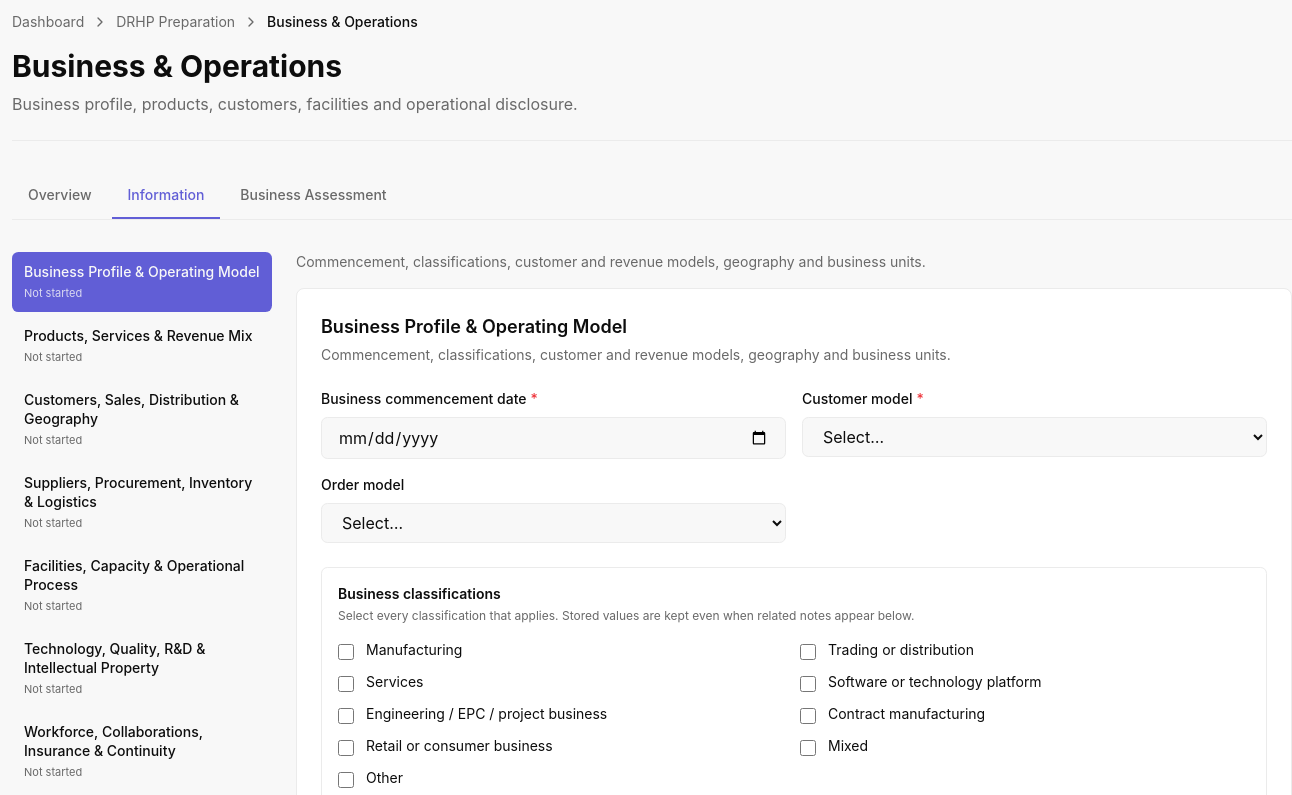
Test: Business & Operations workstream UI (B2 persistence) › loads workspace and renders three tabs and eight information sections
expect the tab "Information" is shown: met, box [112,173,220,219]
expect the tab "Business Assessment" is shown: met, box [224,173,403,219]
Click the tab "Overview".
click(60, 196)  # box [12,173,108,219]
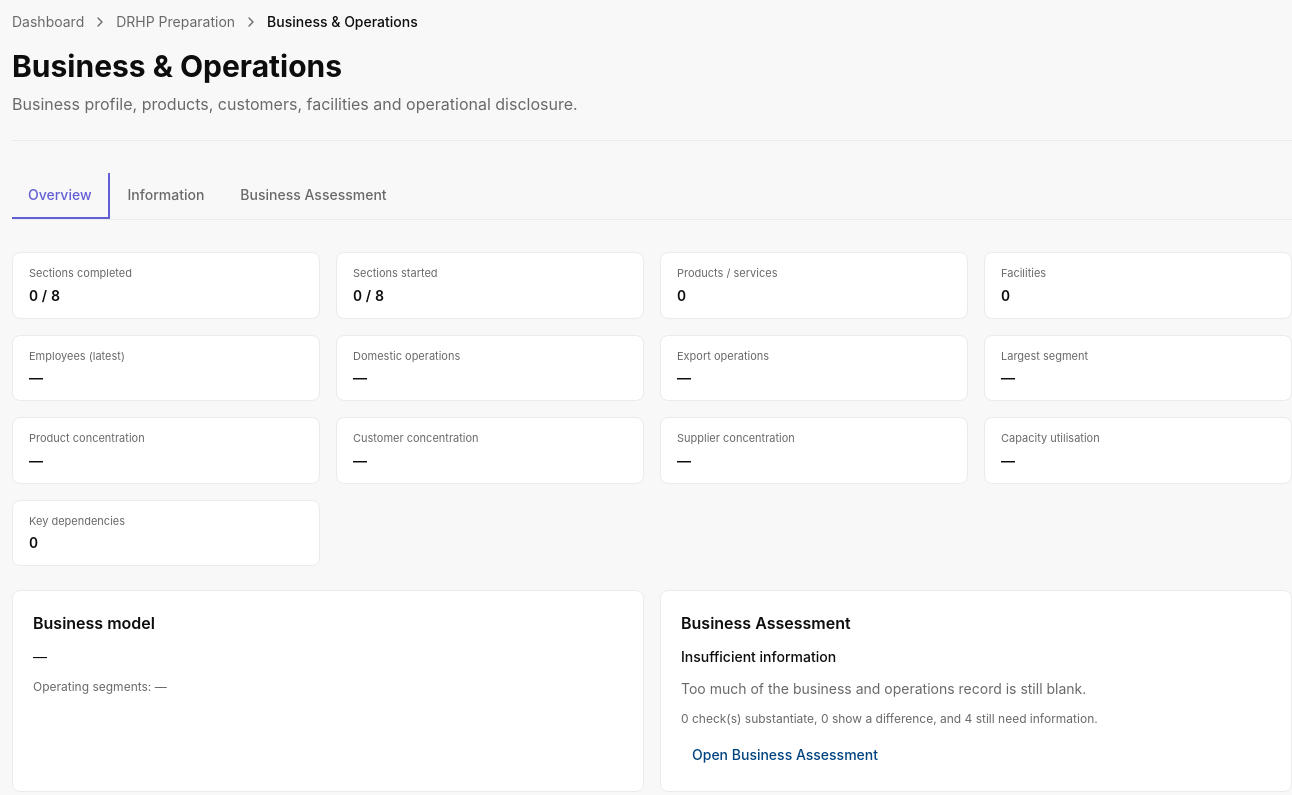
expect the text "Sections completed" is shown: met, box [29,266,132,280]
expect the text "Insufficient information" is shown: met, box [681,648,836,665]
Click the tab "Business Assessment".
click(313, 196)  # box [224,173,403,219]
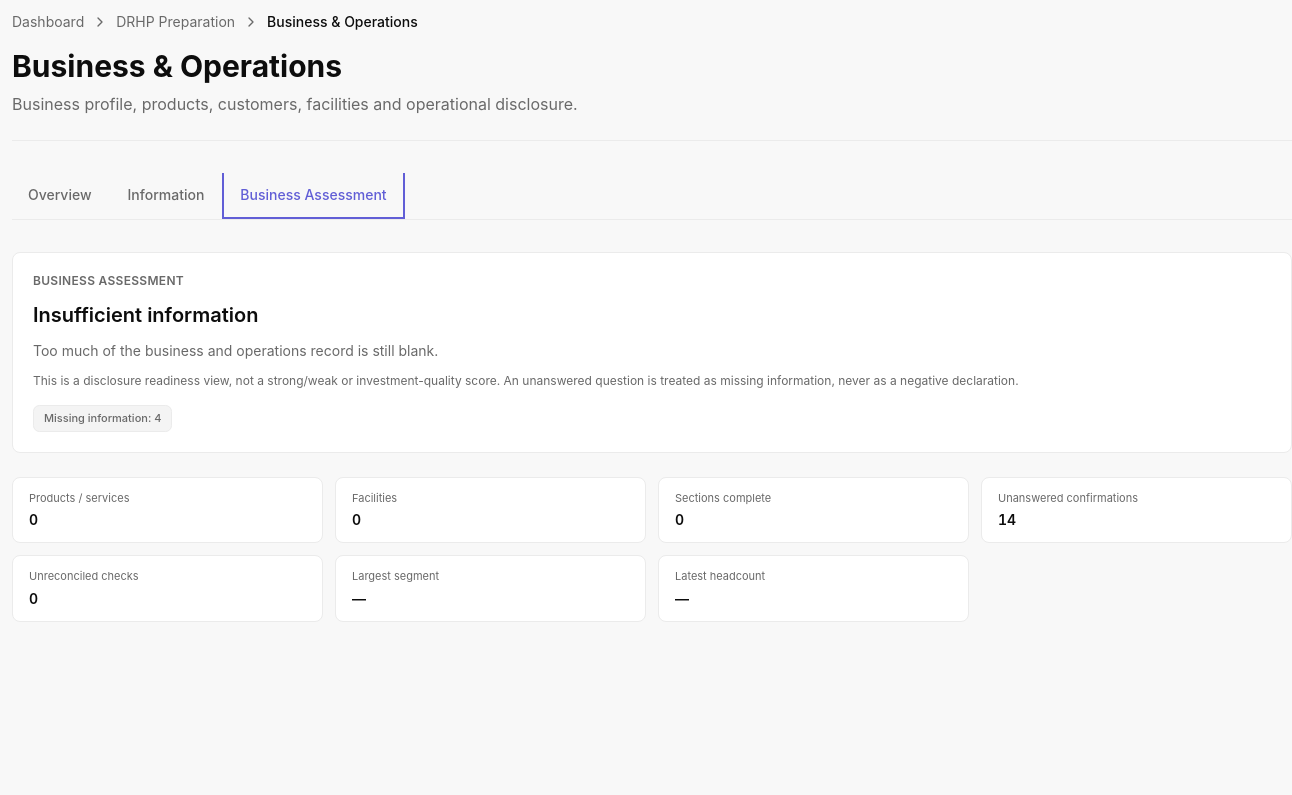
expect the text "not a strong/weak or investment-quality score" is shown: met, box [33,373,1019,388]
